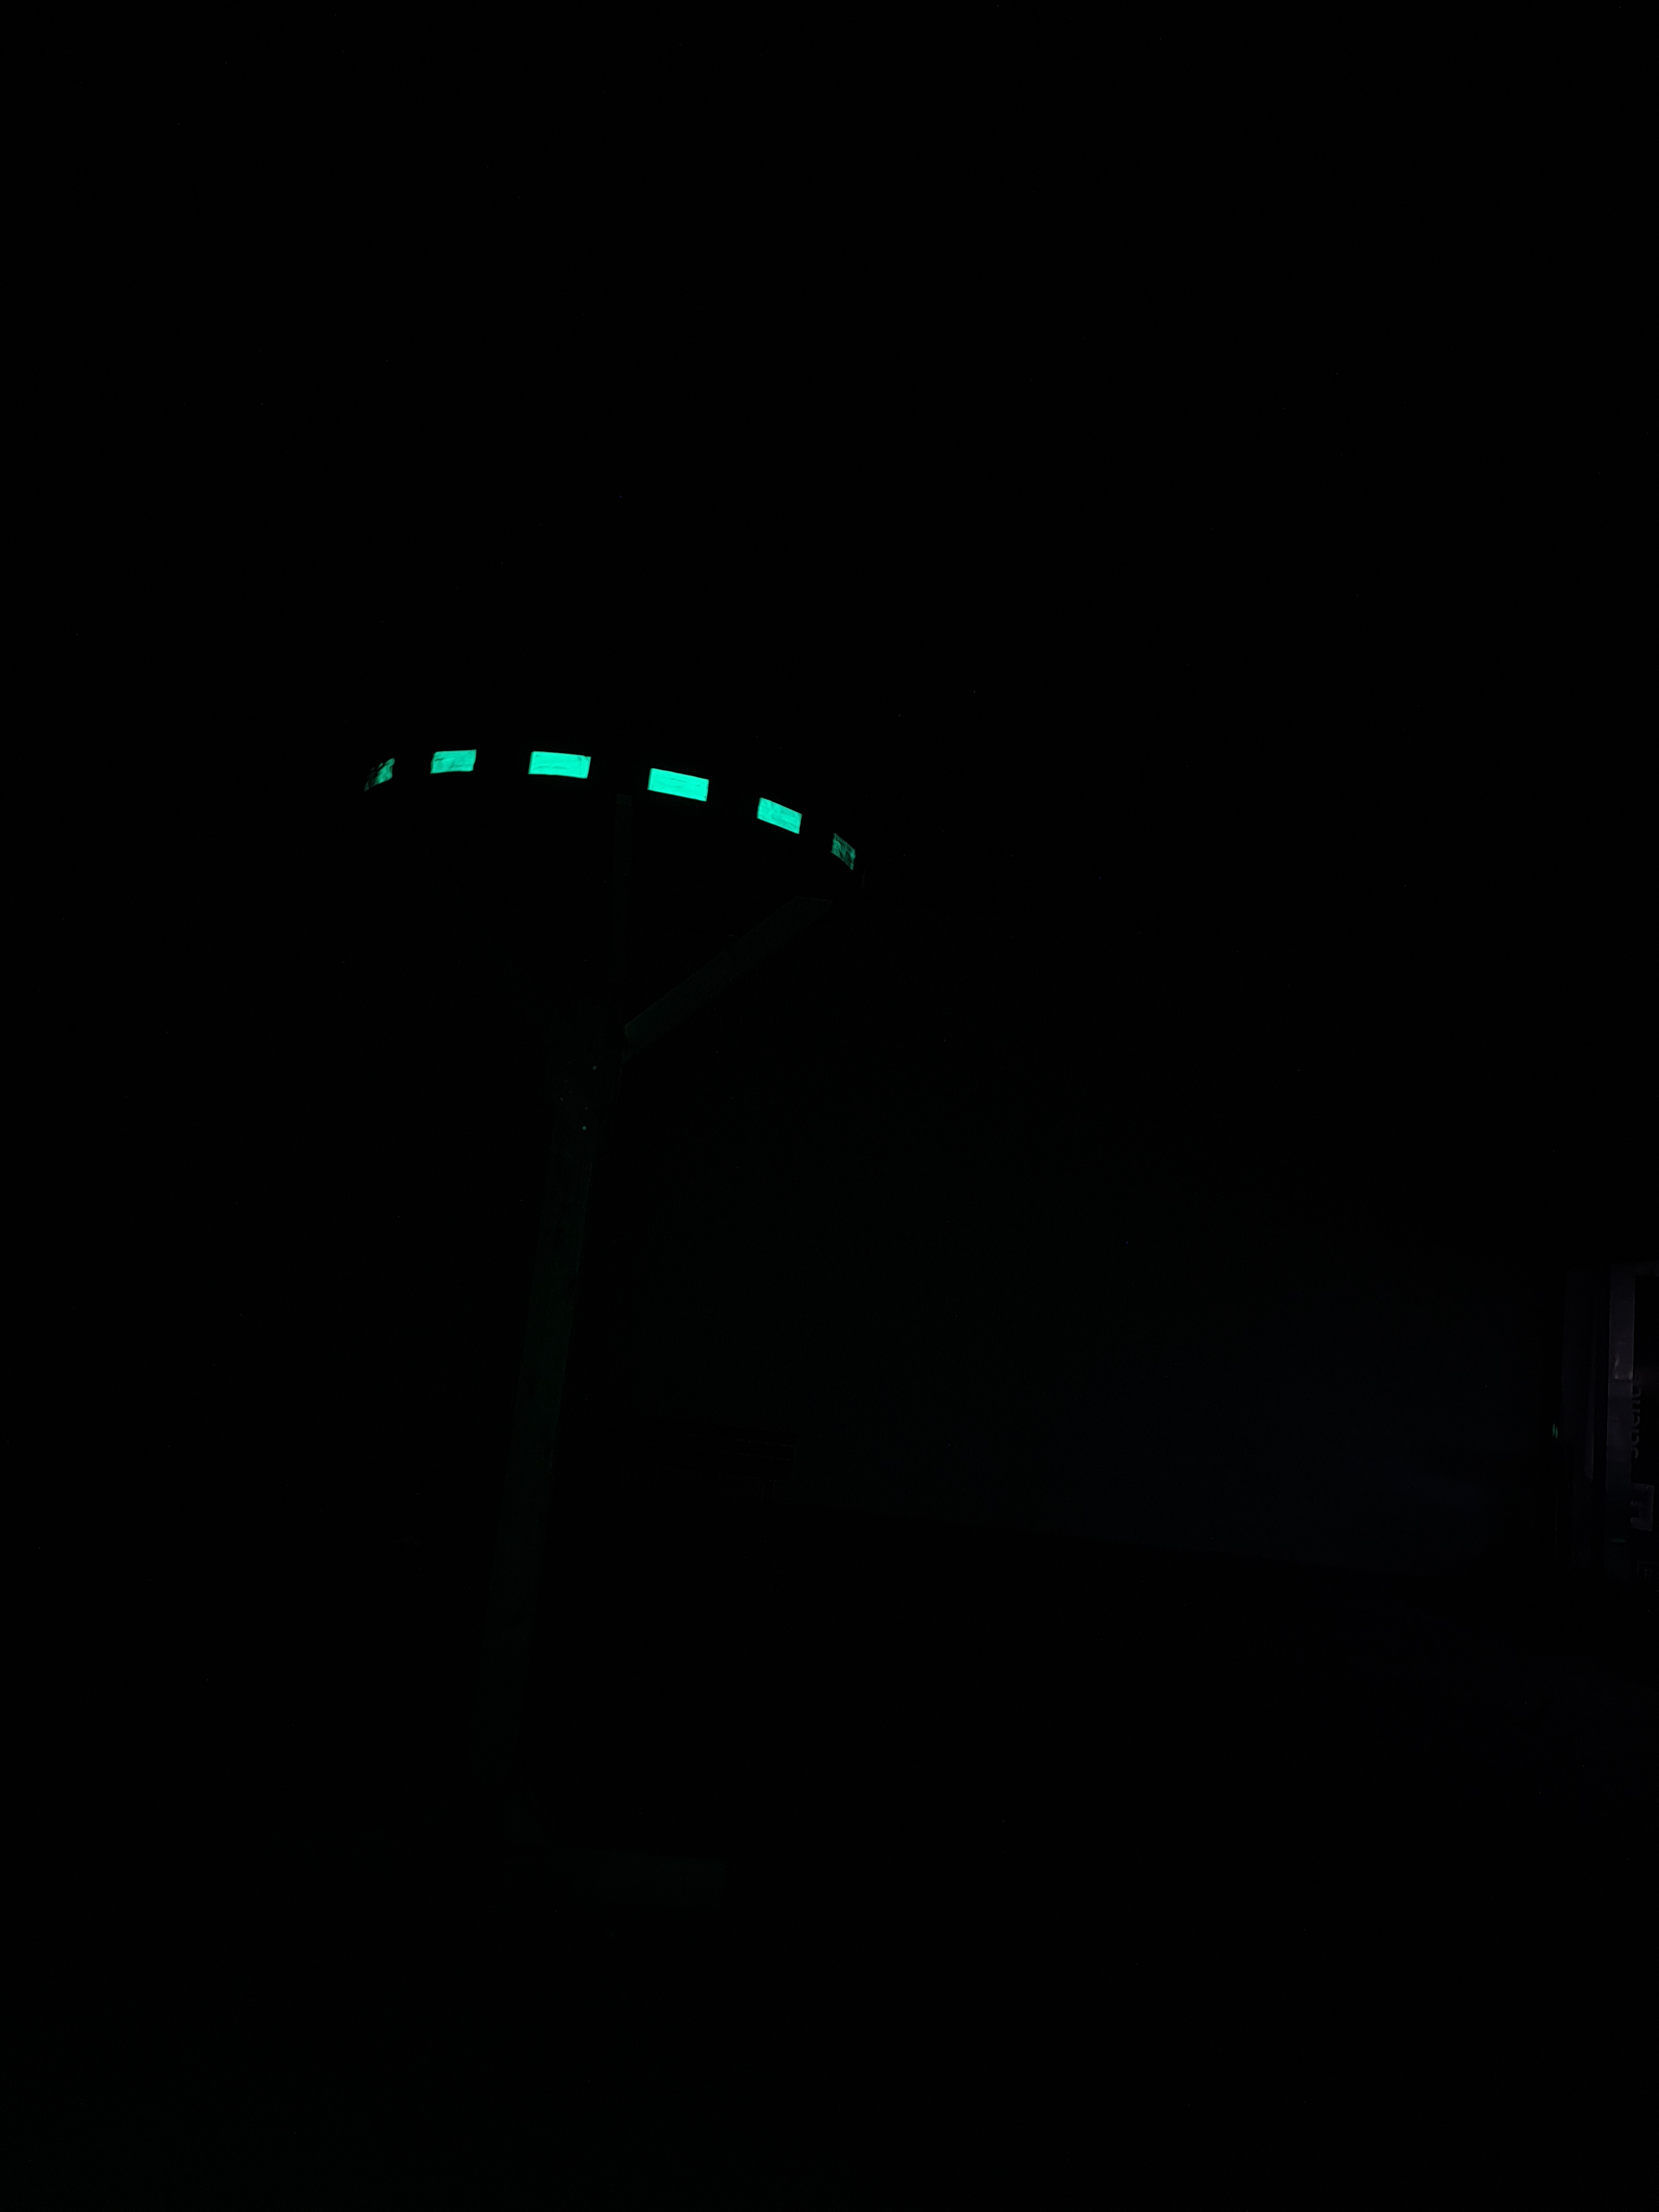hoop: (364, 733, 864, 890)
